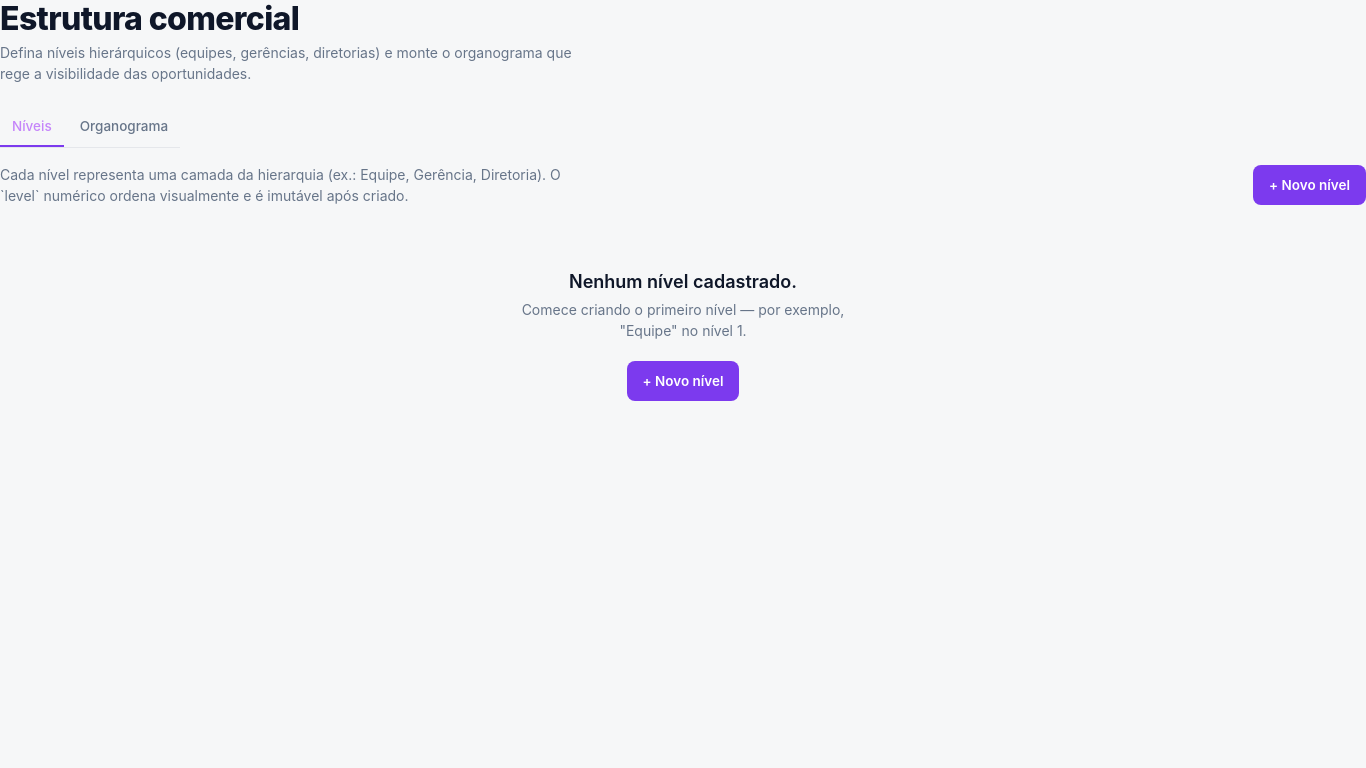
Test: /admin/commercial-structure (Sprint 15G Fase 4a) › click em nó da árvore abre Sheet com detalhes e membros
Click the tab "Organograma" at [124, 128], box [68,108,180,147]
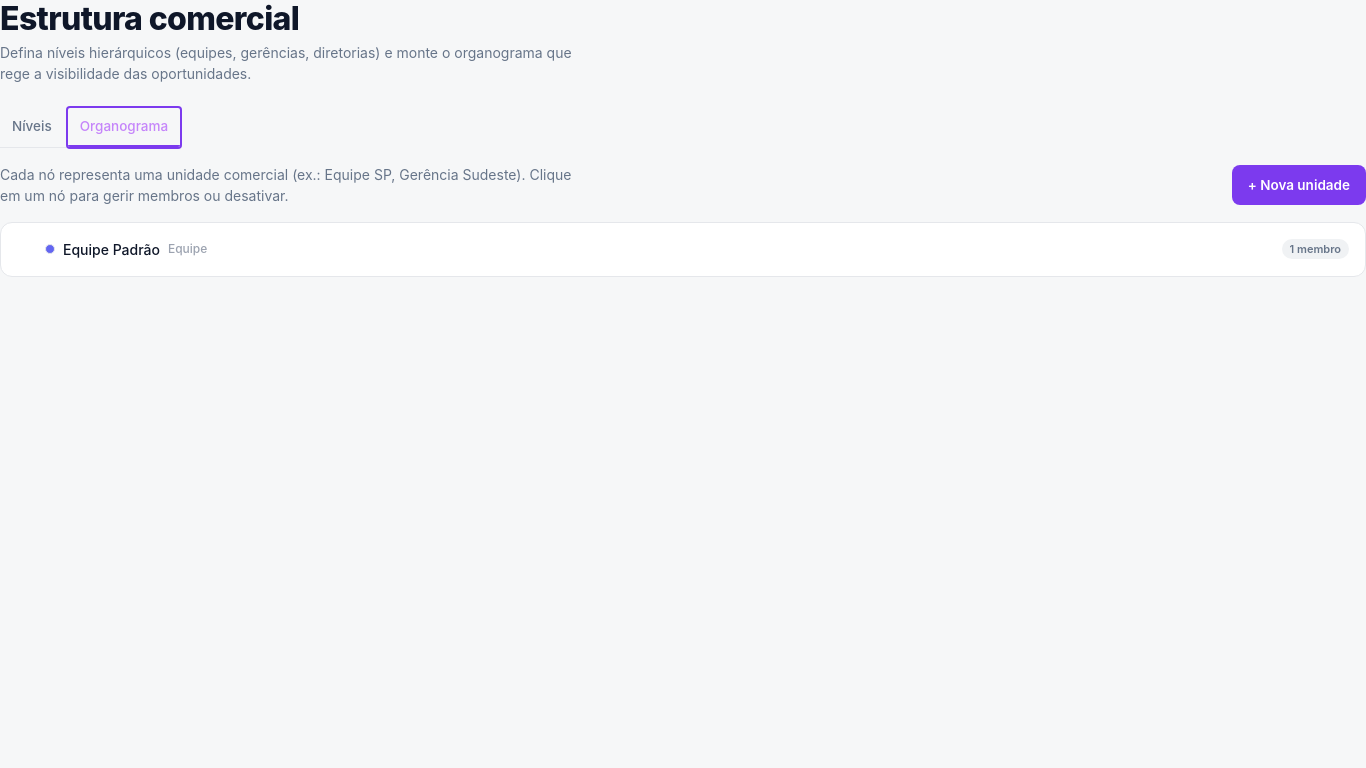
Note: Click no nó — botão com o nome do nó
Click the button "Equipe Padrão Equipe" at [111, 249], box [63,239,1274,260]
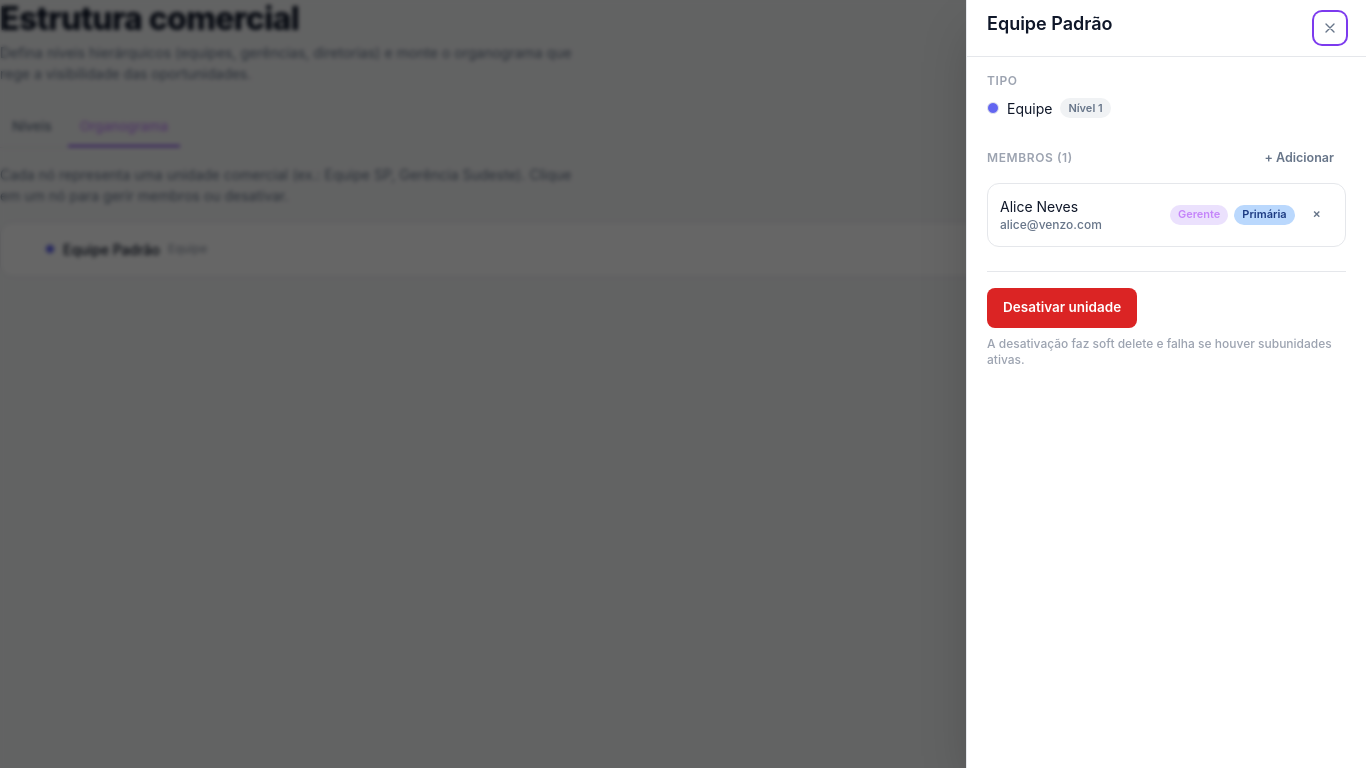
Check: the text "Alice Neves" is shown, box [1000,198,1078,215]
Check: the text "alice@venzo.com" is shown, box [1000,217,1102,234]
Check: the text "Gerente" is shown, box [1170,205,1228,225]
